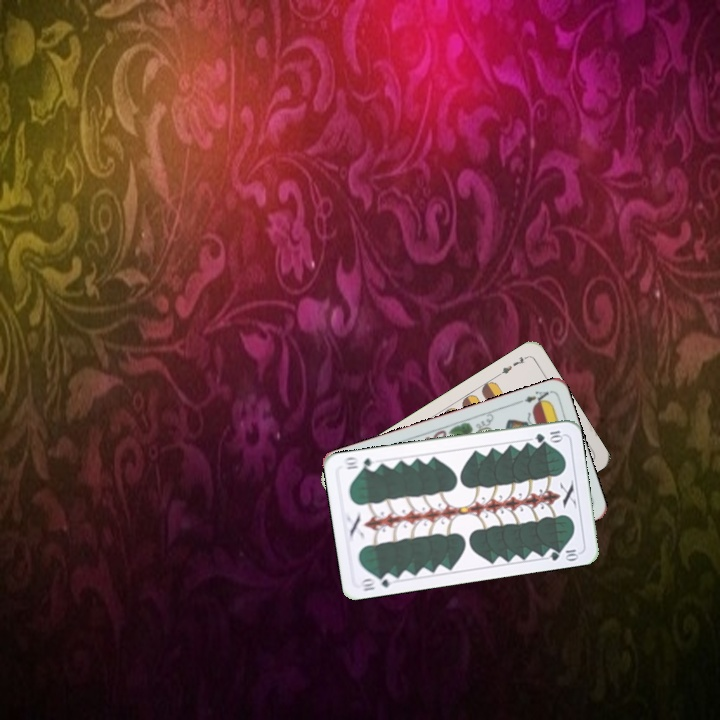E7: (493, 352, 530, 379)
EA: (513, 387, 552, 409)
G10: (356, 570, 397, 594), (531, 426, 566, 445)
